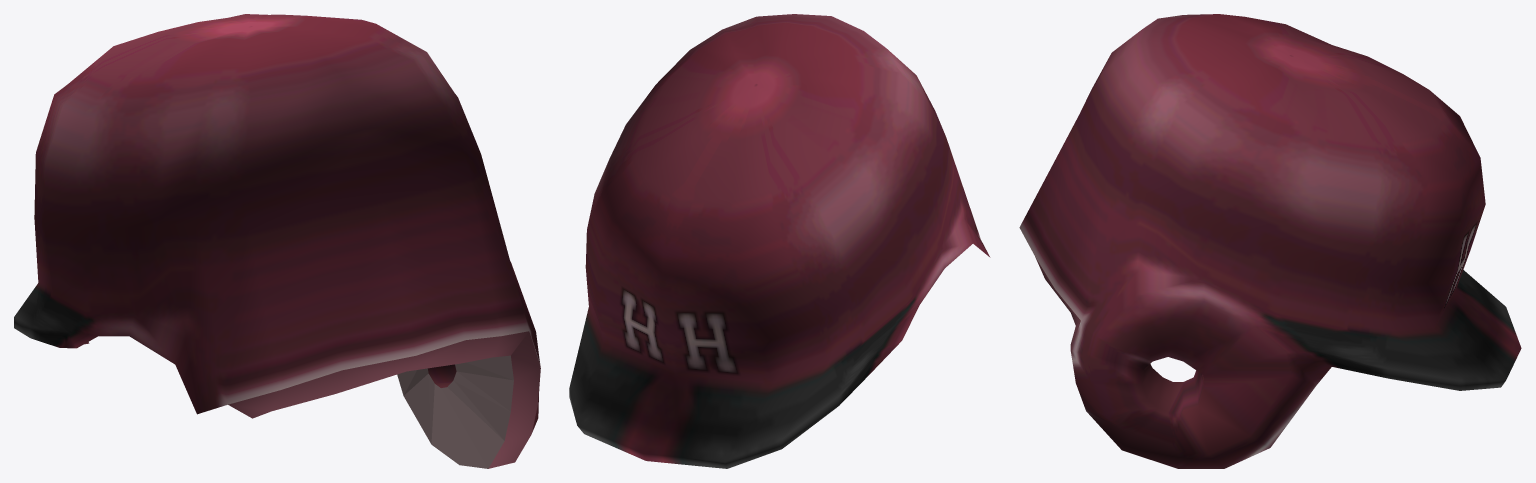
File: HH2kIcon.ico.obj
3 views of the same model, side by side, from view 1: azimuth 30°, elevation 25°; view 2: azimuth 150°, elevation 25°; view 3: azimuth 270°, elevation 25° (orthographic). The views are drawn at different scales.
Size of the model in its own units: 3.31 by 3.91 by 4.85.
Materials: 1 (1 with a texture image).
